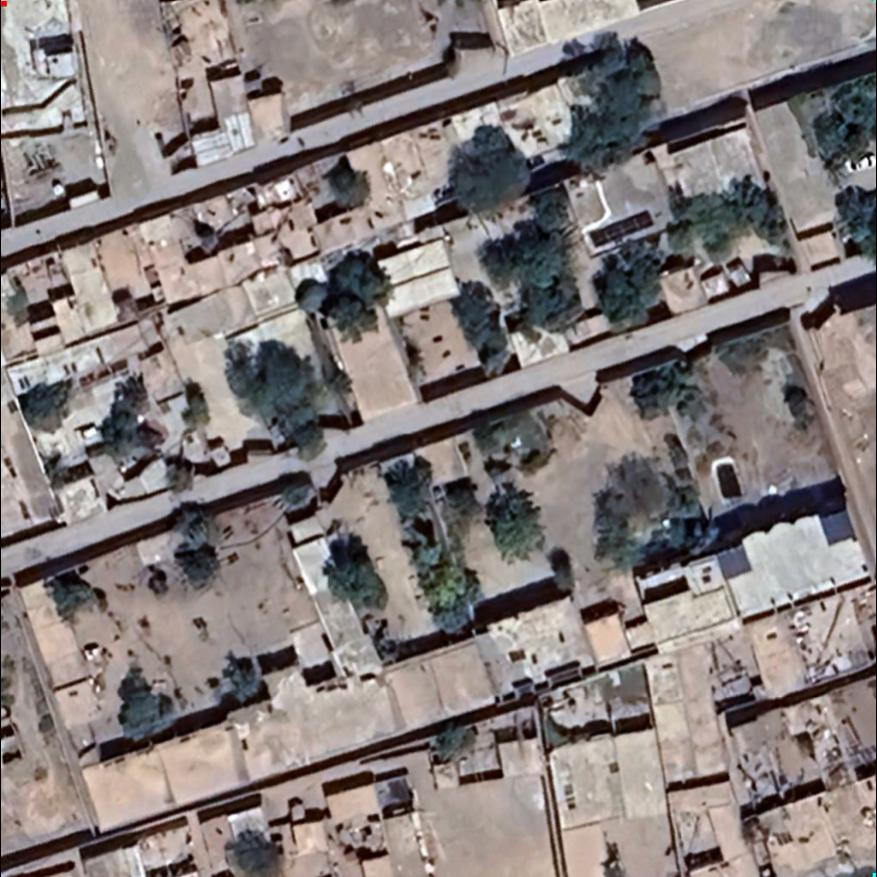Solarpanel: (580, 203, 663, 255)
